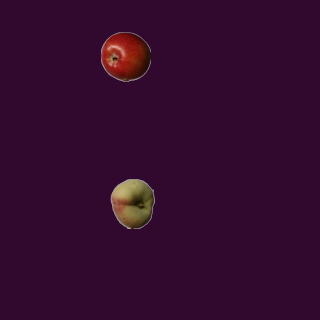Apple Braeburn: (100, 31, 150, 81)
Peach Flat: (107, 178, 157, 228)
